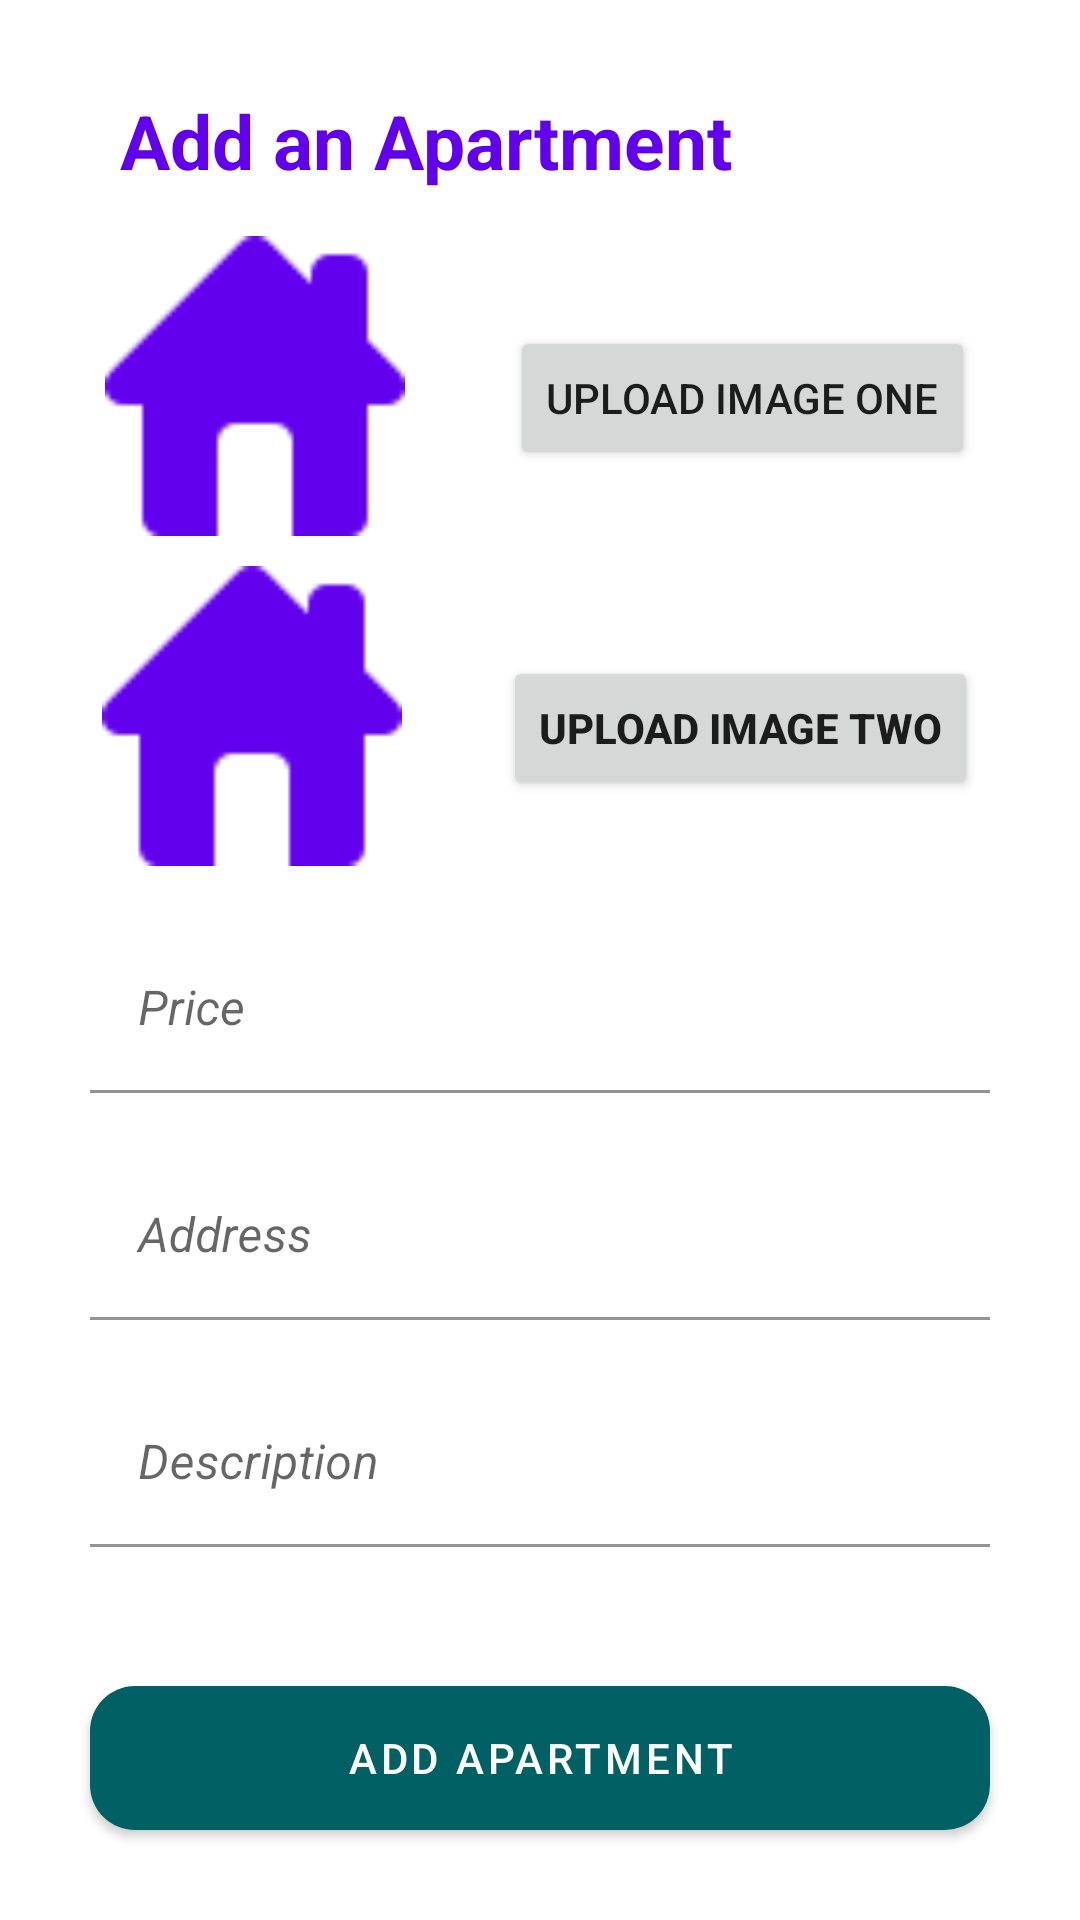

Where icons sit on this 1080px x 1920px app screen, as rect(x1, y1, x2, y2):
home: rect(105, 236, 405, 536), rect(102, 566, 402, 866)
